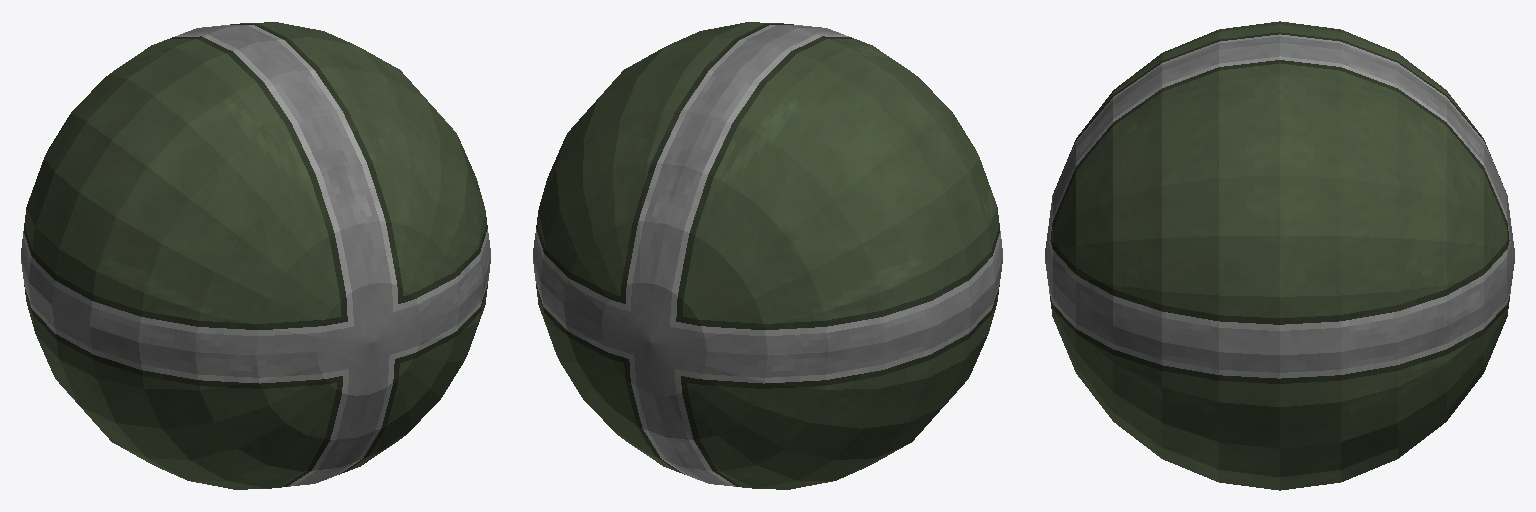
3 renders of one model, left to right at view 1: azimuth 30°, elevation 25°; view 2: azimuth 150°, elevation 25°; view 3: azimuth 270°, elevation 25°, orthographic.
Visible parts, largest first — view 1: big; view 2: big; view 3: big.
Boxes of the visible parts, x1=… form: big: x1=21, y1=22, x2=490, y2=489; big: x1=533, y1=22, x2=1002, y2=489; big: x1=1045, y1=21, x2=1514, y2=490.
Size of the model in its own units: 0.375 by 0.375 by 0.375.
Materials: 1 (1 with a texture image).